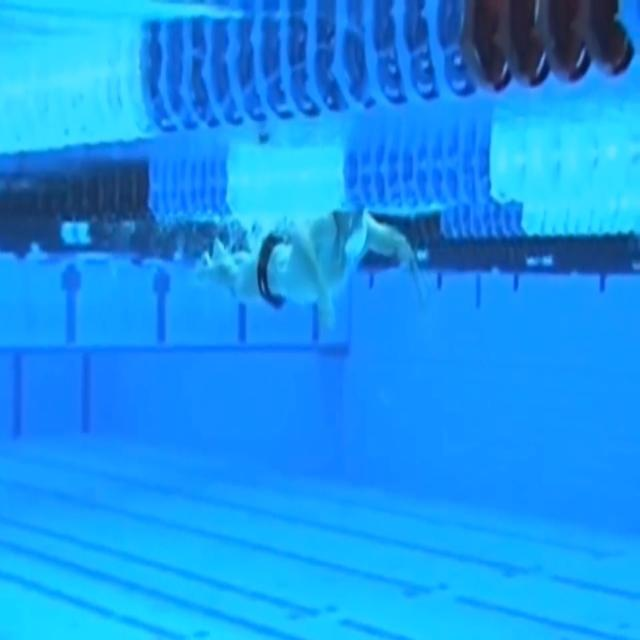Swimming: (198, 212, 424, 337)
